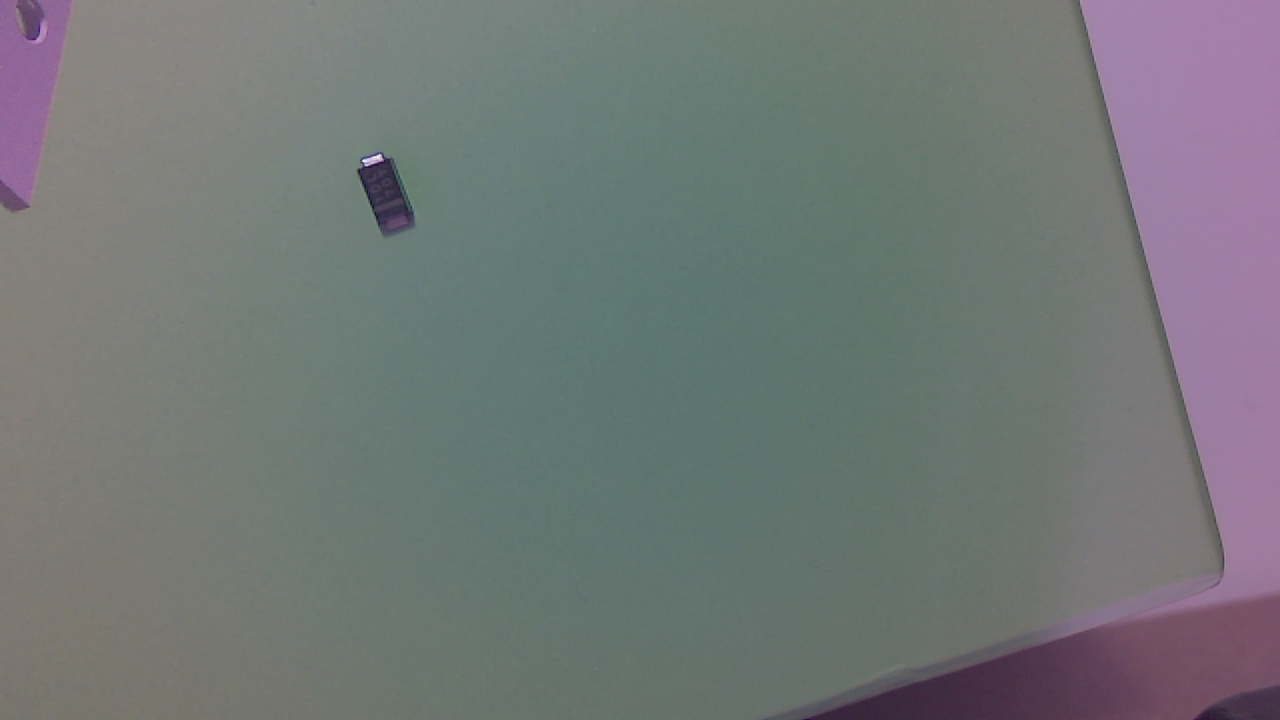Diode: (362, 152, 423, 240)
